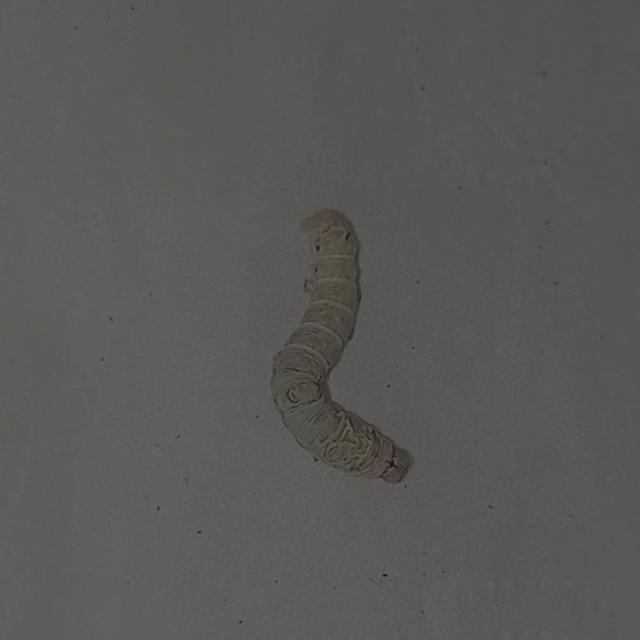Healthy: (260, 200, 429, 490)
